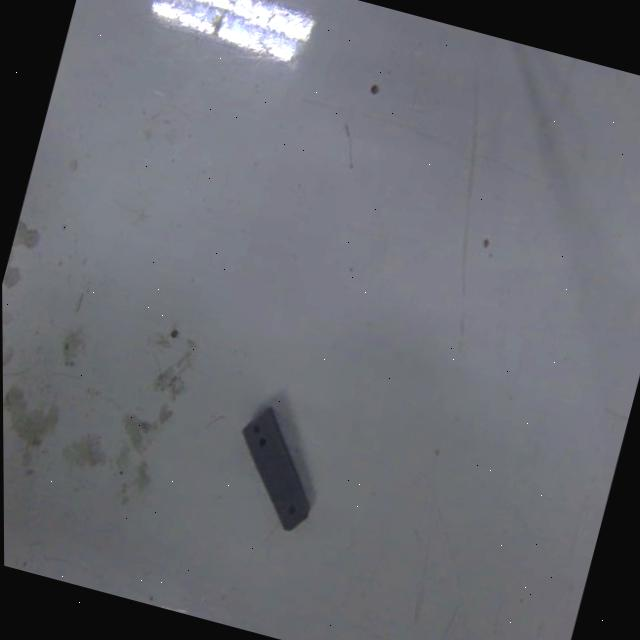grey: (216, 396, 334, 539)
head: (284, 500, 295, 516)
